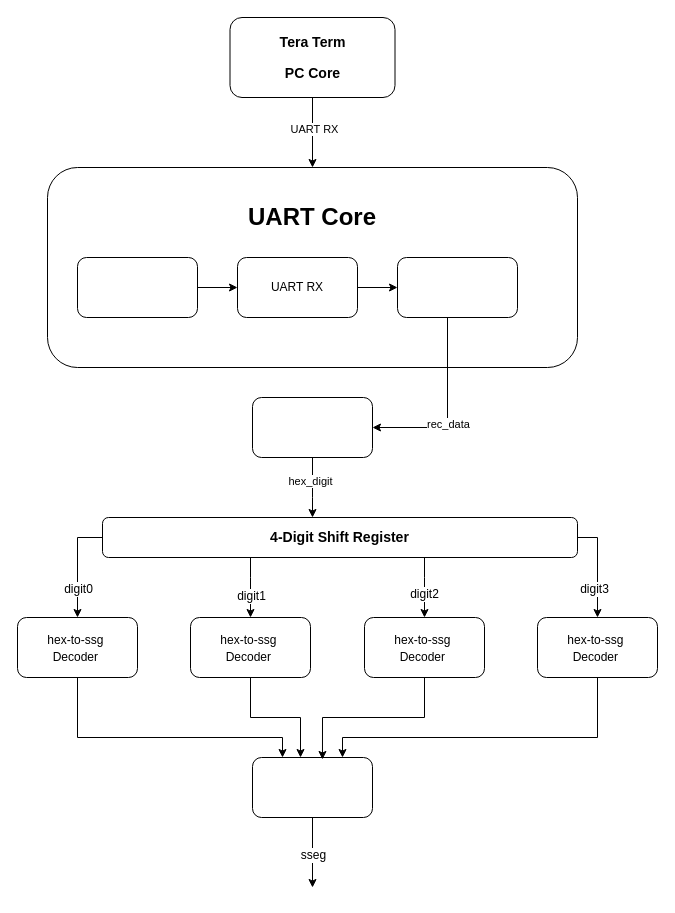
This 675x913 diagram has some shape labels left out. Here are the shapes that lost their labels. From the top down, the centre of each, then its label:
At (137,287): "Baud Gen".
At (457,287): "RX FIFO".
At (312,427): "ASCII to Hex Decoder".
At (312,787): "disp_mux Multiplexer".
